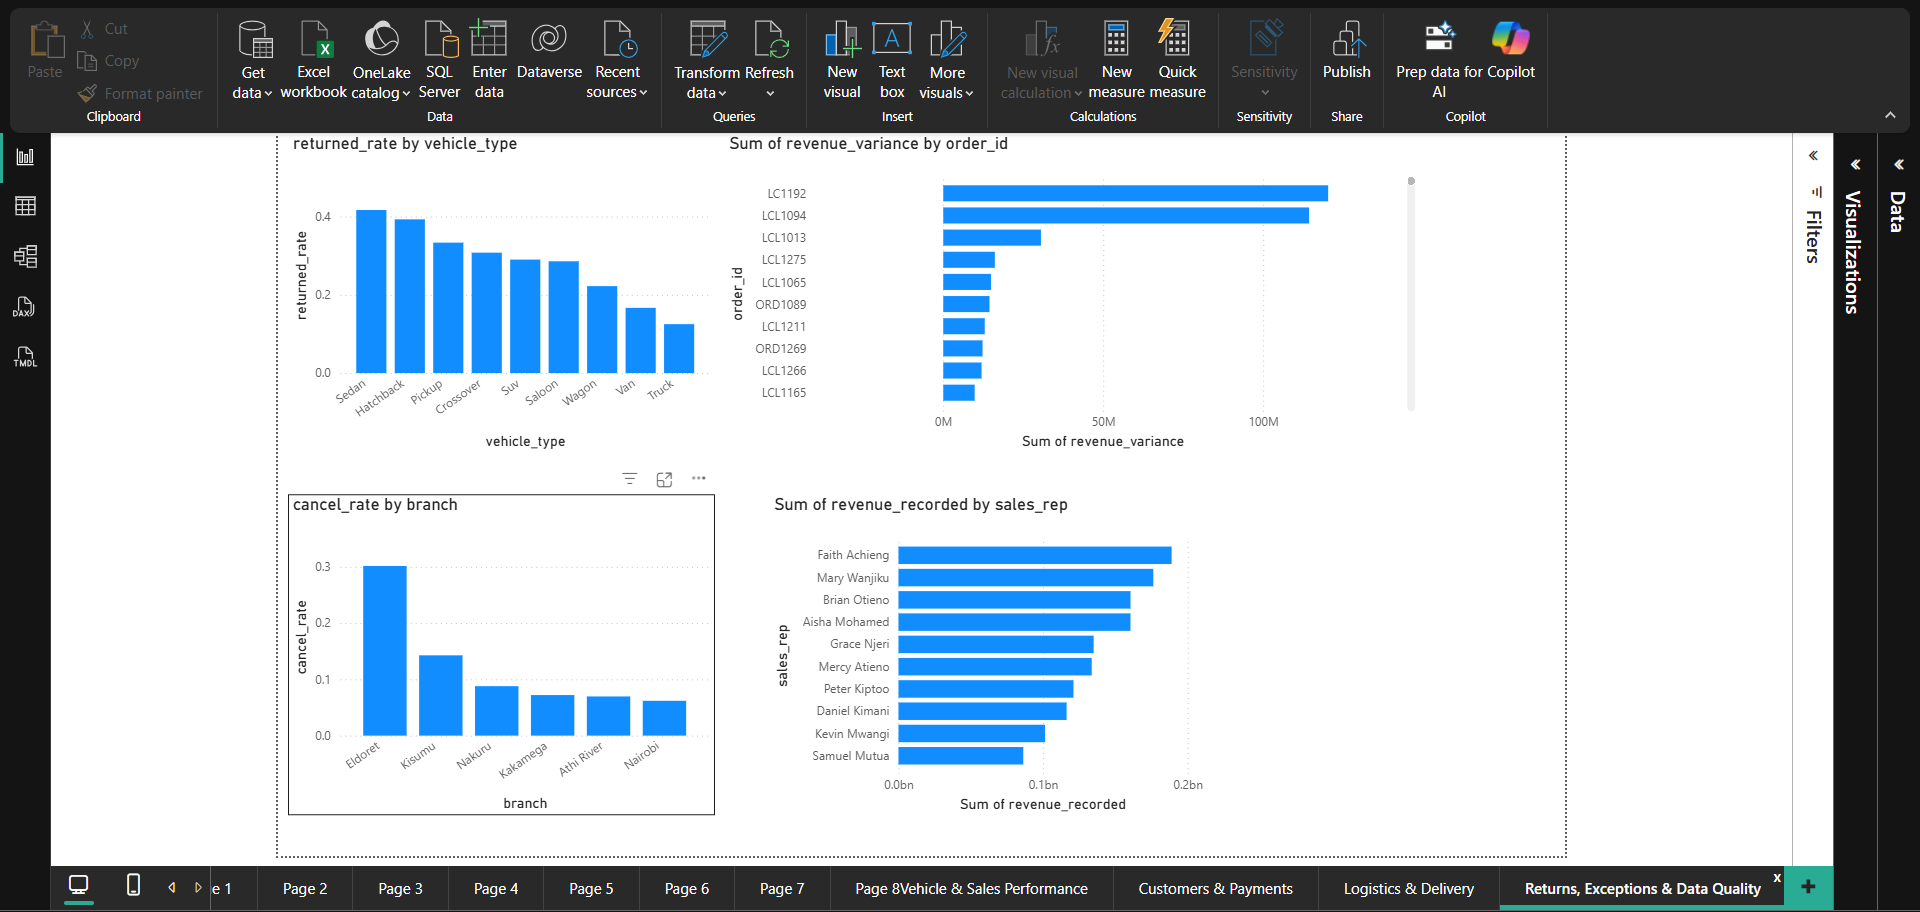

What the dashboard file says about the page in this screenshot:
{"tool":"powerbi","page":{"name":"Returns, Exceptions & Data Quality","canvas":[1280,720],"ordinal":11},"visuals":[{"type":"clusteredColumnChart","fields":{"Y":["logistics car_sales.returned_rate"],"Category":["logistics car_sales.vehicle_type"]},"box":[9.6,0,425.4,319.7],"z":0},{"type":"clusteredColumnChart","fields":{"Y":["logistics car_sales.cancel_rate"],"Category":["logistics car_sales.branch"]},"box":[9.6,359.5,425,320],"z":1},{"type":"clusteredBarChart","fields":{"Category":["logistics car_sales.order_id"],"Y":["Sum(logistics car_sales.revenue_variance)"]},"box":[444.1,0,692.9,319.7],"z":2},{"type":"clusteredBarChart","fields":{"Category":["logistics car_sales.sales_rep"],"Y":["Sum(logistics car_sales.revenue_recorded)"]},"box":[488.9,359.5,436.6,320.9],"z":3}]}

Visuals, with their boxes on the page's 1280x720 design canvas (x1, y1, x2, y2). These are canvas units, not pixel positions in the 1920x912 screenshot, which may show the page scaled, cropped or inside an application window:
clusteredColumnChart - logistics car_sales.returned_rate x logistics car_sales.vehicle_type: {"left": 10, "top": 0, "right": 435, "bottom": 320}
clusteredColumnChart - logistics car_sales.cancel_rate x logistics car_sales.branch: {"left": 10, "top": 360, "right": 435, "bottom": 680}
clusteredBarChart - logistics car_sales.order_id x Sum(logistics car_sales.revenue_variance): {"left": 444, "top": 0, "right": 1137, "bottom": 320}
clusteredBarChart - logistics car_sales.sales_rep x Sum(logistics car_sales.revenue_recorded): {"left": 489, "top": 360, "right": 926, "bottom": 680}
